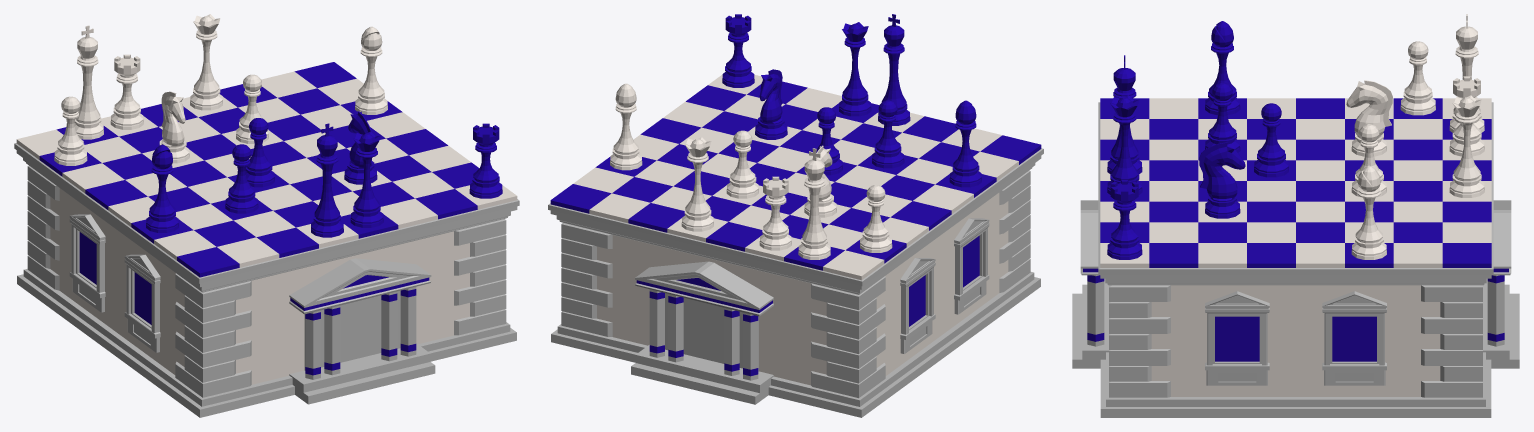
The model's file is Chess.fbx.
3 renders of one model, left to right at view 1: azimuth 30°, elevation 25°; view 2: azimuth 150°, elevation 25°; view 3: azimuth 270°, elevation 25°, orthographic. The views are drawn at different scales.
Parts seen in each view (by area): view 1: roof, base, corners, door, window, Cylinder, BK, BK.001, BQ.001, BQ, BB, BR (+8 smaller); view 2: roof, base, corners, door, window, Cylinder, BK.001, BQ.001, BQ, BB.001, BN, BB (+8 smaller); view 3: roof, base, corners, window, door, Cylinder, BN, WN, BQ.001, BB.001, BR, BP.004 (+8 smaller).
Part boxes in pixels (x1,y1,x2,y2): roof: (14,62,519,292); base: (17,188,516,417); corners: (27,165,506,397); door: (289,258,435,404); window: (69,214,160,352); Cylinder: (305,287,416,379); BK: (311,123,343,237); BK.001: (74,25,103,139); BQ.001: (190,14,222,110); BQ: (350,131,383,227); BB: (146,144,178,232); BR: (469,123,502,198); roof: (548,74,1043,294); base: (551,193,1040,417); corners: (561,170,1030,398); door: (631,261,773,404); window: (900,218,989,353); Cylinder: (649,289,758,380); BK.001: (798,148,830,259); BQ.001: (681,137,713,231); BQ: (839,22,871,116); BB.001: (610,83,642,170); BN: (755,69,787,139); BB: (949,100,981,187); roof: (1098,98,1493,285); base: (1100,278,1491,417); corners: (1109,285,1482,397); window: (1205,291,1386,385); door: (1072,200,1519,368); Cylinder: (1087,275,1504,346); BN: (1199,142,1245,218); WN: (1346,80,1392,156); BQ.001: (1449,95,1484,197); BB.001: (1351,165,1386,259); BR: (1107,179,1142,259); BP.004: (1400,41,1435,115).
Size of the model in its own units: 404 by 303 by 457.
